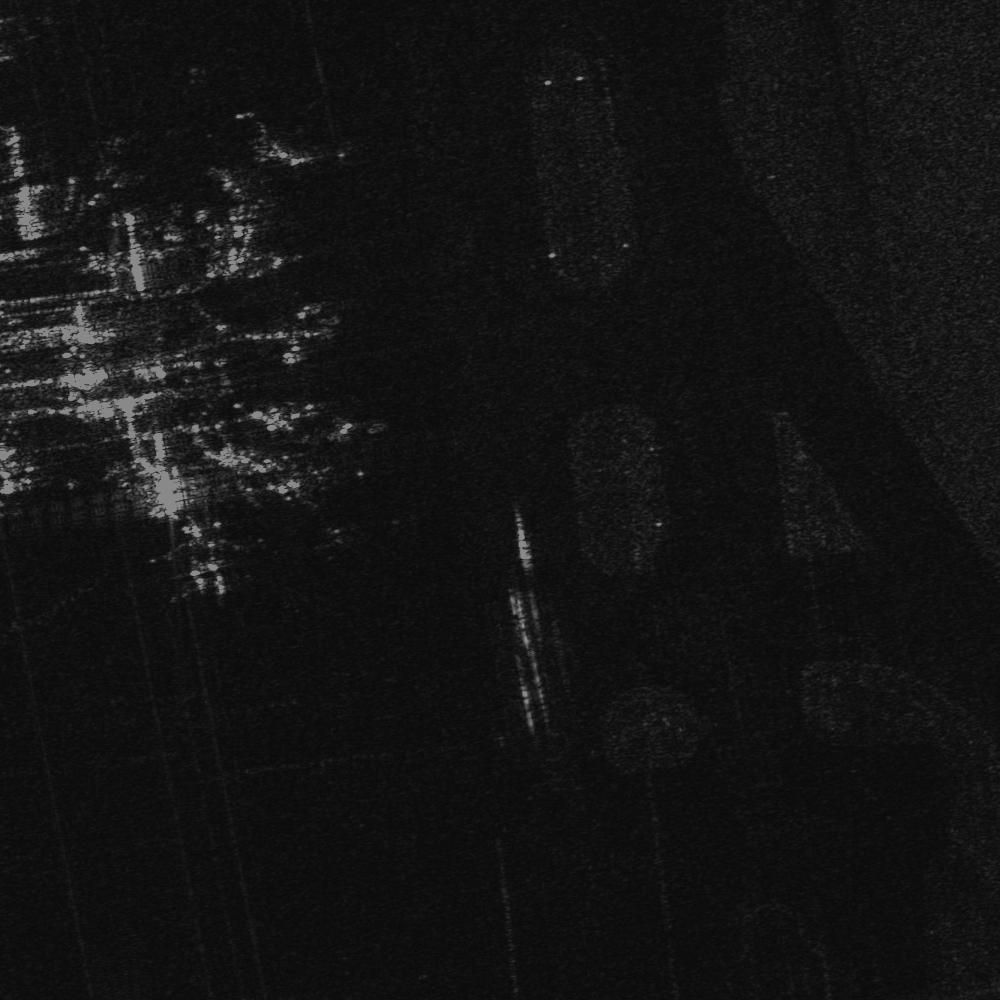Boeing737: (151, 513, 254, 601)
